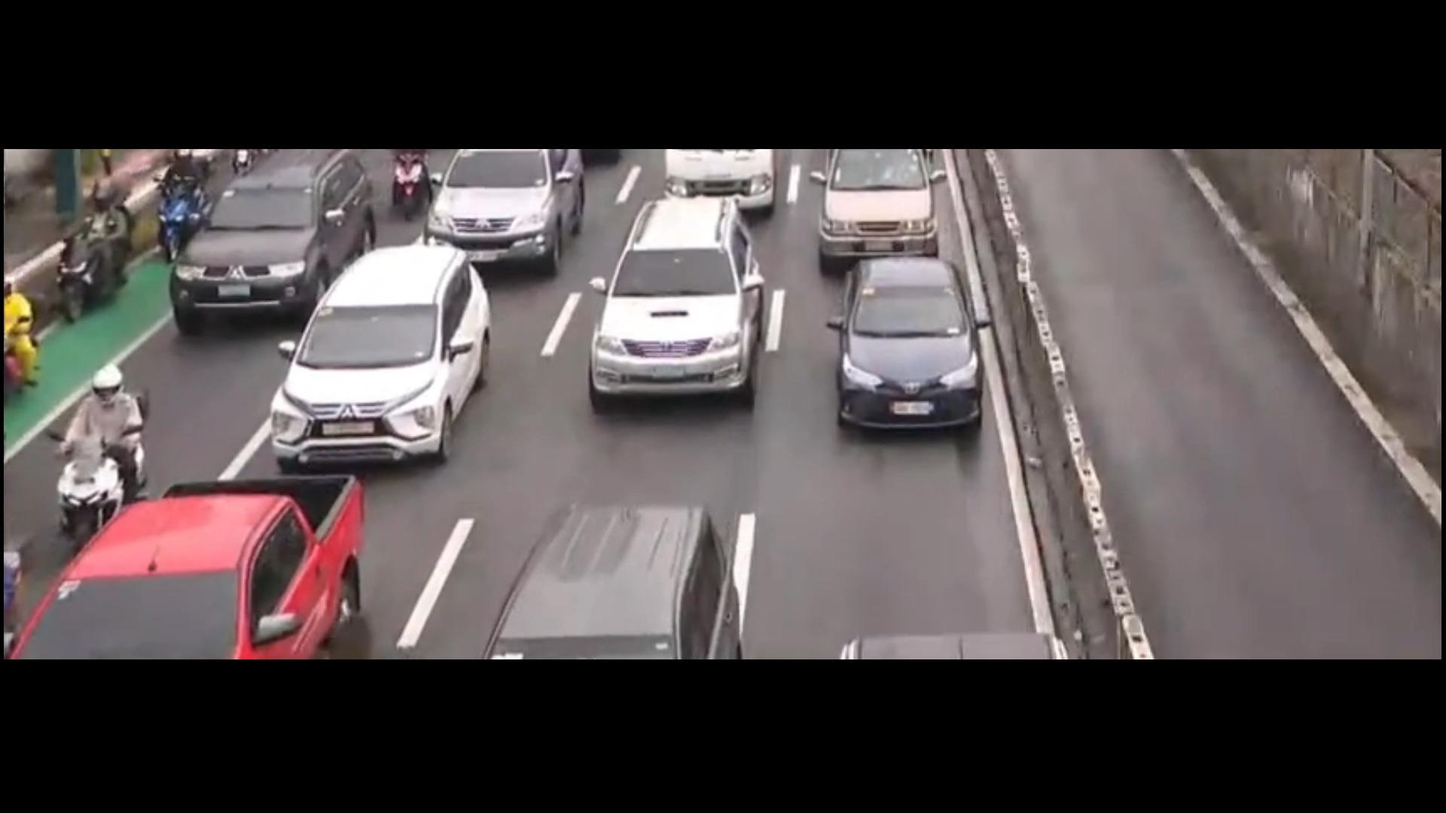Motorcycle: (29, 360, 153, 545), (42, 196, 145, 317), (140, 162, 209, 259), (0, 269, 36, 406), (384, 145, 443, 221)
Pickup: (7, 458, 390, 657)
SUV: (273, 232, 516, 462), (494, 497, 738, 672), (581, 187, 767, 405), (176, 145, 375, 319), (410, 153, 593, 272), (813, 136, 947, 263)
Sedan: (809, 239, 993, 448)
